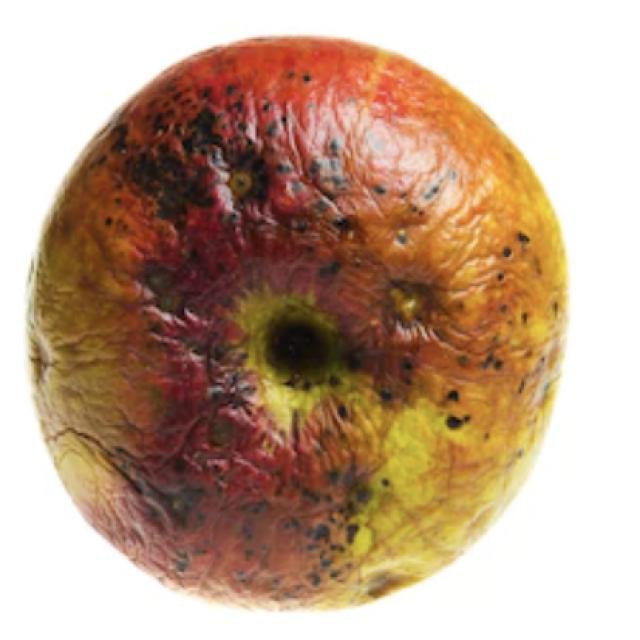rotten_apple: (31, 36, 570, 610)
